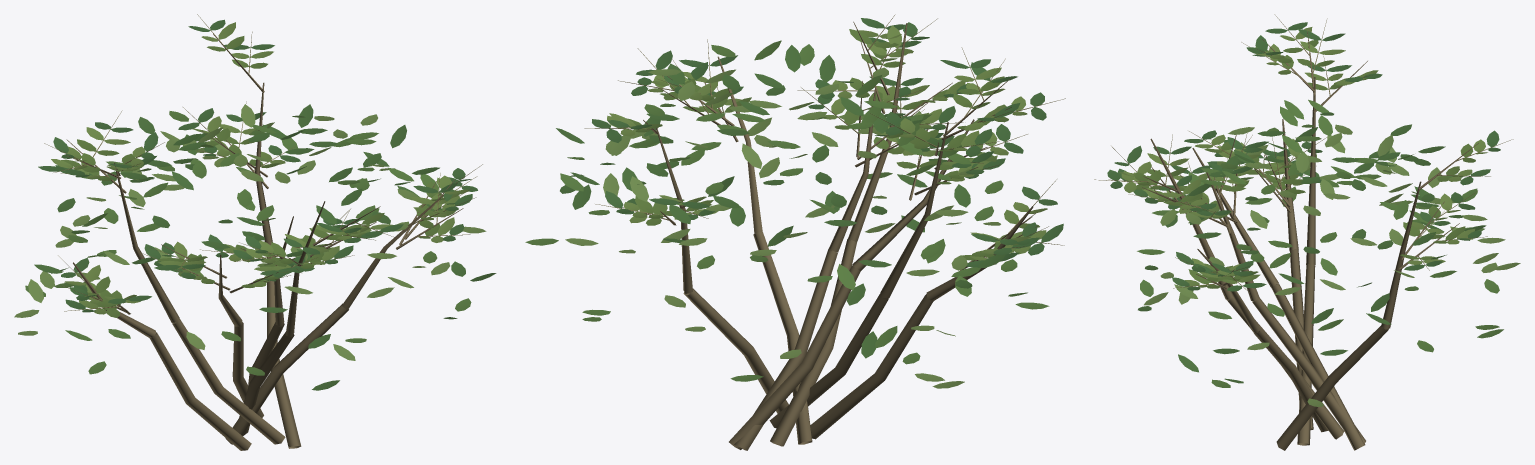
The model's file is LentisqueRampant_1_Low.fbx.
3 views of the same model, side by side, from view 1: azimuth 30°, elevation 25°; view 2: azimuth 150°, elevation 25°; view 3: azimuth 270°, elevation 25° (orthographic). The views are drawn at different scales.
Visible parts, largest first — view 1: LentisqueRampant_1_Low; view 2: LentisqueRampant_1_Low; view 3: LentisqueRampant_1_Low.
Boxes of the visible parts, x1=… form: LentisqueRampant_1_Low: x1=14, y1=14, x2=496, y2=450; LentisqueRampant_1_Low: x1=525, y1=14, x2=1065, y2=450; LentisqueRampant_1_Low: x1=1094, y1=14, x2=1520, y2=450.
Bounding box in the file's own units: 166 × 133 × 154.
